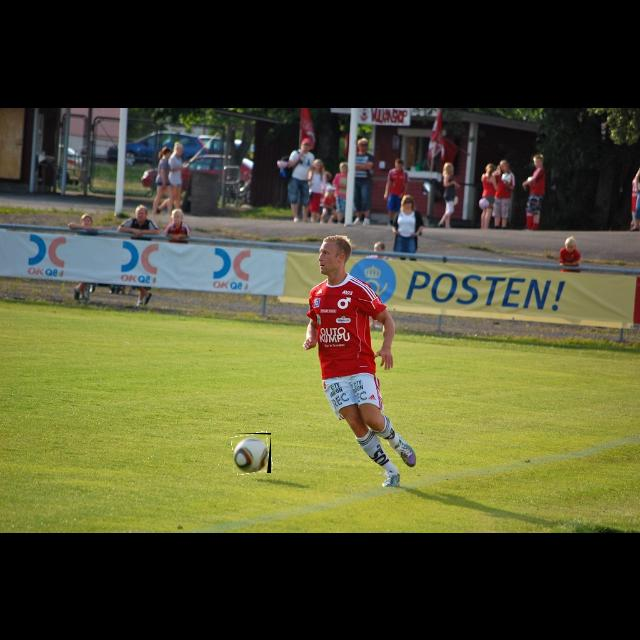Football: (233, 433, 271, 473)
